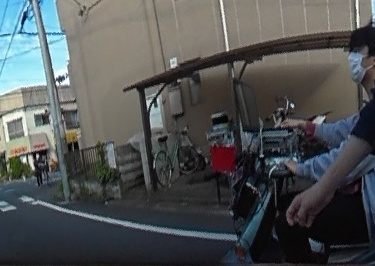person: (268, 28, 375, 256), (33, 149, 44, 185)
